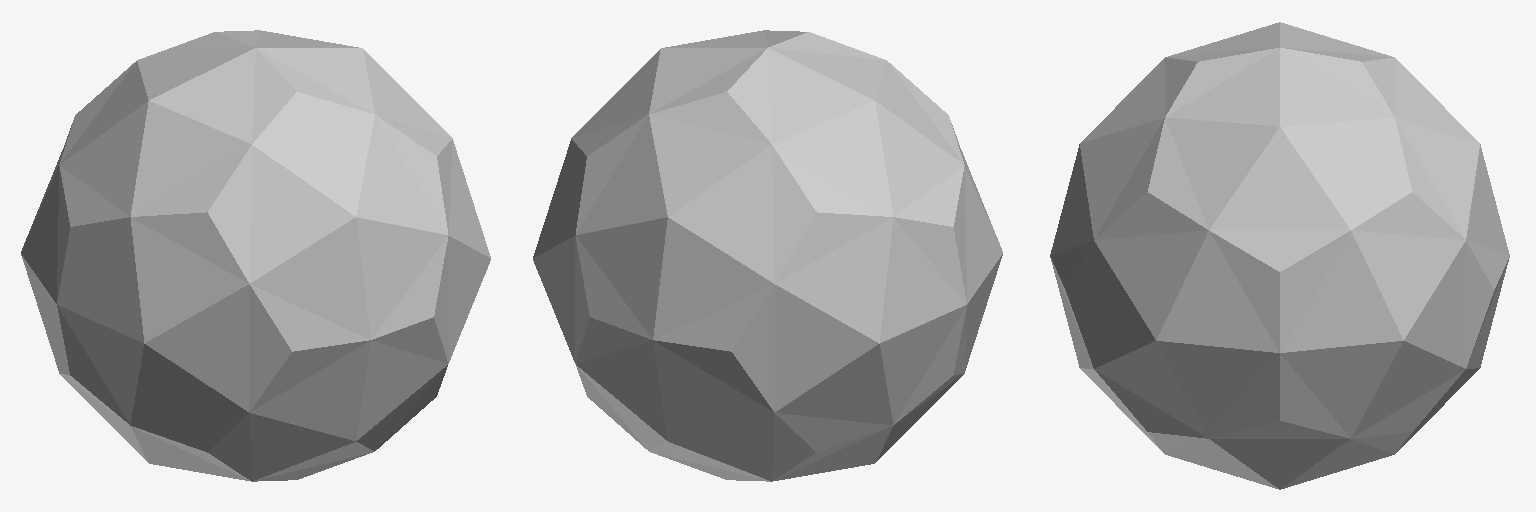
File: moontest-01.obj
3 renders of one model, left to right at view 1: azimuth 30°, elevation 25°; view 2: azimuth 150°, elevation 25°; view 3: azimuth 270°, elevation 25°, orthographic.
Parts seen in each view (by area): view 1: pSolid2; view 2: pSolid2; view 3: pSolid2.
Part boxes in pixels (x1,y1,x2,y2): pSolid2: (21, 30, 490, 481); pSolid2: (533, 30, 1002, 481); pSolid2: (1050, 22, 1509, 489).
Size of the model in its own units: 0.6637 by 0.6637 by 0.6637.